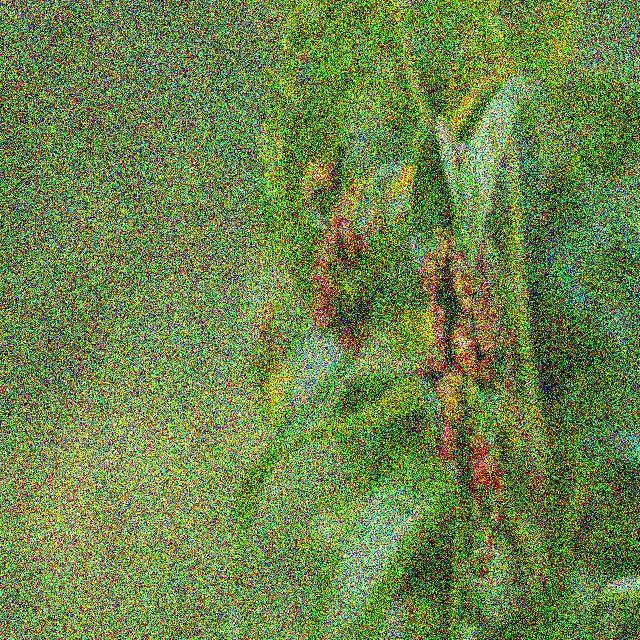leaf_curl: (310, 134, 524, 511)
